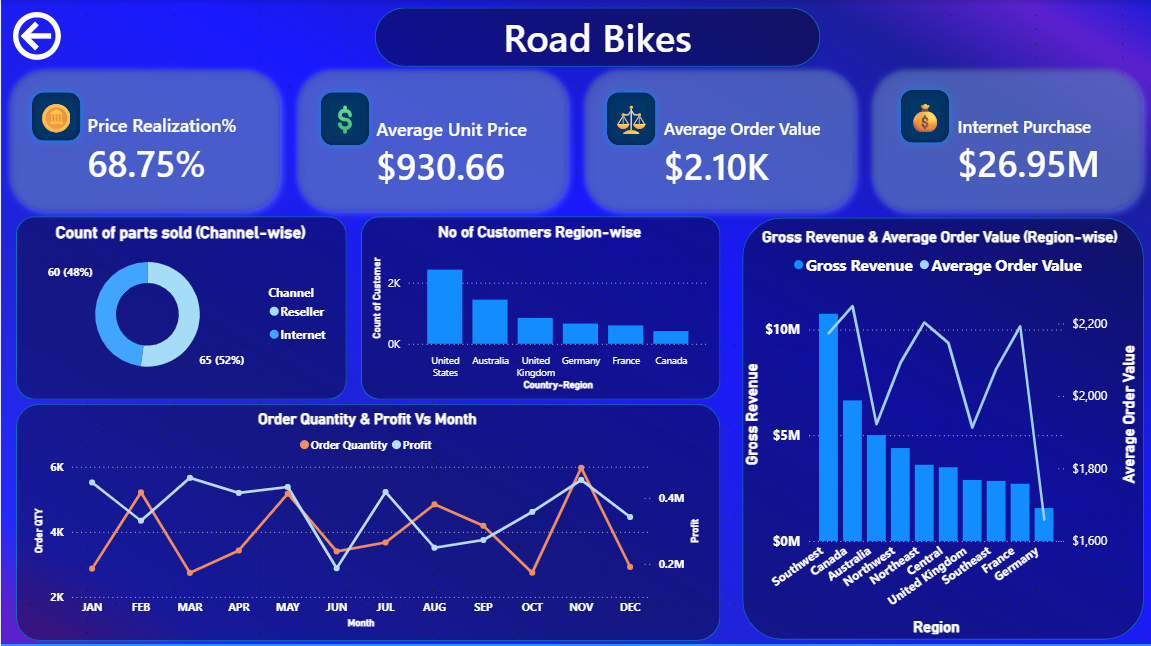

This screenshot's page, from the dashboard's own definition file:
{"tool":"powerbi","page":{"name":"Drill through - Sub Category","canvas":[1280,720],"ordinal":1},"visuals":[{"type":"shape","box":[416,8,496,66],"z":0},{"type":"shape","box":[0.7,68,320,176],"z":0,"group":"g2"},{"type":"shape","box":[400,240,400,204],"z":0,"group":"g1"},{"type":"shape","box":[320.7,68,320,176],"z":1000,"group":"g2"},{"type":"group","id":"g1","title":"Background","box":[16,240,1255,472],"z":1000},{"type":"shape","box":[16,240,368,204],"z":1000,"group":"g1"},{"type":"group","id":"g2","title":"Background","box":[0.7,68,1280,176],"z":2000},{"type":"shape","box":[640.7,68,320,176],"z":2000,"group":"g2"},{"type":"shape","box":[824,242,447,470],"z":2000,"group":"g1"},{"type":"shape","box":[960.7,68,320,176],"z":3000,"group":"g2"},{"type":"cardVisual","fields":{"Data":["_Measure.Average_Unit_Price"]},"box":[401.4,112.3,213.3,115],"z":3000},{"type":"shape","box":[16,448,784,264],"z":3000,"group":"g1"},{"type":"cardVisual","fields":{"Data":["_Measure.Price Realization%"]},"box":[79.2,108.1,213.3,115],"z":4000},{"type":"shape","box":[25.9,94.8,70,70],"z":5000},{"type":"shape","box":[347.5,94,70,75],"z":6000},{"type":"cardVisual","fields":{"Data":["_Measure.Average Order Value"]},"box":[720.6,112.3,213.3,115],"z":7000},{"type":"shape","box":[666.7,94,70,75],"z":8000},{"type":"actionButton","box":[0,0,96,80],"z":9000},{"type":"cardVisual","fields":{"Data":["_Measure.Internet_Purchase"]},"box":[1047.8,109.7,213.3,115],"z":10000},{"type":"shape","box":[993.9,91.3,70,75],"z":11000},{"type":"lineStackedColumnComboChart","title":"Gross Revenue & Average Order Value (Region-wise)","fields":{"Category":["Sales-Territory_Dim.Region"],"Y2":["_Measure.Average Order Value"],"Y":["_Measure.Gross_Revenue"]},"box":[821,253,448,458],"z":12000},{"type":"lineChart","title":"Order Quantity & Profit Vs Month","fields":{"Y":["Sum(Sales_Fact.Order Quantity)"],"Y2":["_Measure.Tot_Profit"],"Category":["Date_Table.3-Letter_Month"]},"box":[32,456,752,248],"z":13000},{"type":"donutChart","title":"Count of parts sold (Channel-wise)","fields":{"Category":["Sales_Order_Dim.Channel"],"Y":["CountNonNull(Product_Dim.Subcategory)"]},"box":[24,248,352,184],"z":14000},{"type":"clusteredColumnChart","title":"No of Customers Region-wise","fields":{"Category":["Customer_Dim.Country-Region"],"Y":["CountNonNull(Customer_Dim.Customer)"]},"box":[408,248,384,192],"z":15000},{"type":"cardVisual","fields":{"Data":["Min(Product_Dim.Subcategory)"]},"box":[320,0,688,77],"z":16000}]}

Visuals, with their boxes in screenshot pixels (x1, y1, x2, y2), scaled from the page's 1280x720 canvas onto the 1151x646 screenshot:
shape: left=374, top=7, right=820, bottom=66
shape: left=1, top=61, right=288, bottom=219
shape: left=360, top=215, right=719, bottom=398
shape: left=288, top=61, right=576, bottom=219
"Background" group: left=14, top=215, right=1143, bottom=639
shape: left=14, top=215, right=345, bottom=398
"Background" group: left=1, top=61, right=1150, bottom=219
shape: left=576, top=61, right=864, bottom=219
shape: left=741, top=217, right=1143, bottom=639
shape: left=864, top=61, right=1150, bottom=219
cardVisual - _Measure.Average_Unit_Price: left=361, top=101, right=553, bottom=204
shape: left=14, top=402, right=719, bottom=639
cardVisual - _Measure.Price Realization%: left=71, top=97, right=263, bottom=200
shape: left=23, top=85, right=86, bottom=148
shape: left=312, top=84, right=375, bottom=152
cardVisual - _Measure.Average Order Value: left=648, top=101, right=840, bottom=204
shape: left=600, top=84, right=662, bottom=152
actionButton: left=0, top=0, right=86, bottom=72
cardVisual - _Measure.Internet_Purchase: left=942, top=98, right=1134, bottom=202
shape: left=894, top=82, right=957, bottom=149
"Gross Revenue & Average Order Value (Region-wise)" lineStackedColumnComboChart: left=738, top=227, right=1141, bottom=638
"Order Quantity & Profit Vs Month" lineChart: left=29, top=409, right=705, bottom=632
"Count of parts sold (Channel-wise)" donutChart: left=22, top=223, right=338, bottom=388
"No of Customers Region-wise" clusteredColumnChart: left=367, top=223, right=712, bottom=395
cardVisual - Min(Product_Dim.Subcategory): left=288, top=0, right=906, bottom=69
